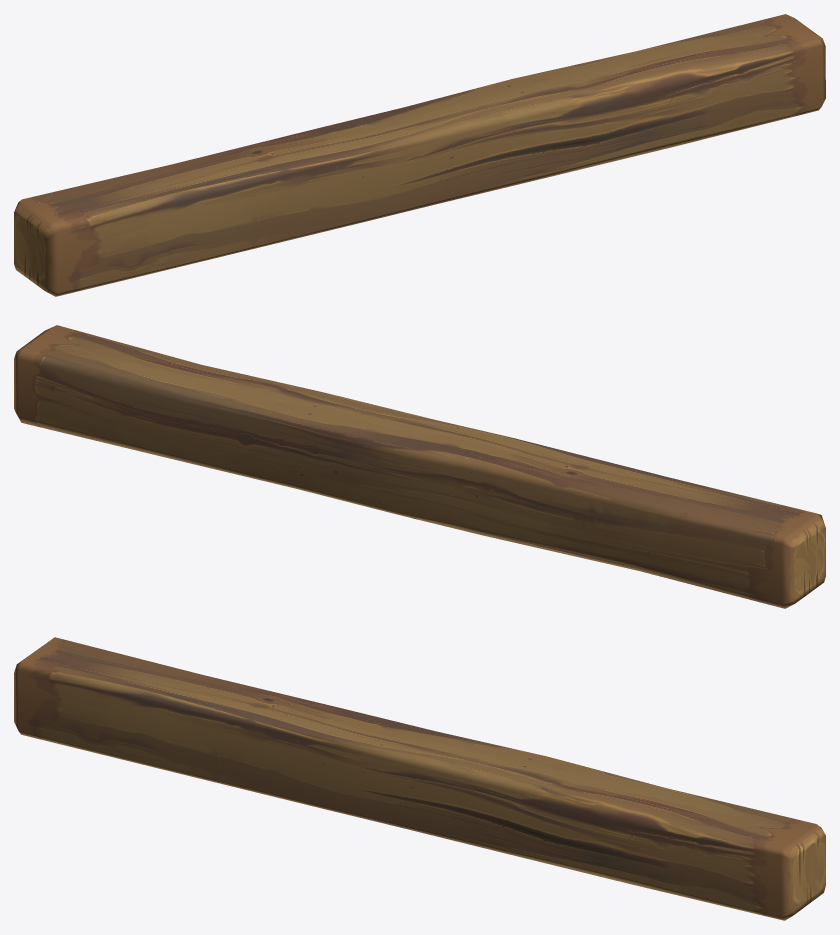
File: SM_MOD_basic_beam_square_town_02.fbx
3 views of the same model, one above another, from view 1: azimuth 30°, elevation 25°; view 2: azimuth 150°, elevation 25°; view 3: azimuth 330°, elevation 25° (orthographic).
Parts seen in each view (by area): view 1: SM_MOD_basic_beam_square_town_02_LOD0; view 2: SM_MOD_basic_beam_square_town_02_LOD0; view 3: SM_MOD_basic_beam_square_town_02_LOD0.
Boxes of the visible parts, left/top/right/bottom form: SM_MOD_basic_beam_square_town_02_LOD0: left=14, top=14, right=825, bottom=296; SM_MOD_basic_beam_square_town_02_LOD0: left=14, top=325, right=825, bottom=608; SM_MOD_basic_beam_square_town_02_LOD0: left=14, top=637, right=825, bottom=920.
Size of what is drawn, in the model's own units: 400 by 35.8 by 35.8.
